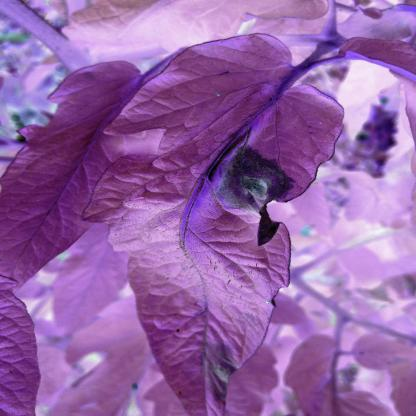tomato leaf late blight: (89, 33, 353, 412)
